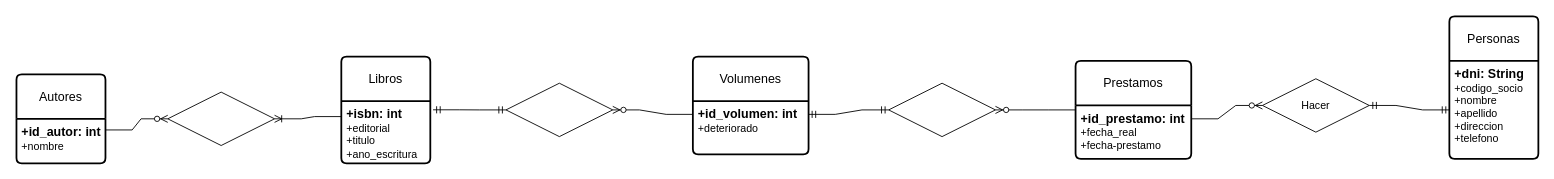
Image size: 1554x179. Some labels were removed from this diagram. Each missing label, with the centre of its shape:
"Escribir" belongs at (x=221, y=118).
"Prestar" belongs at (x=941, y=109).
"Tener" belongs at (x=559, y=109).
